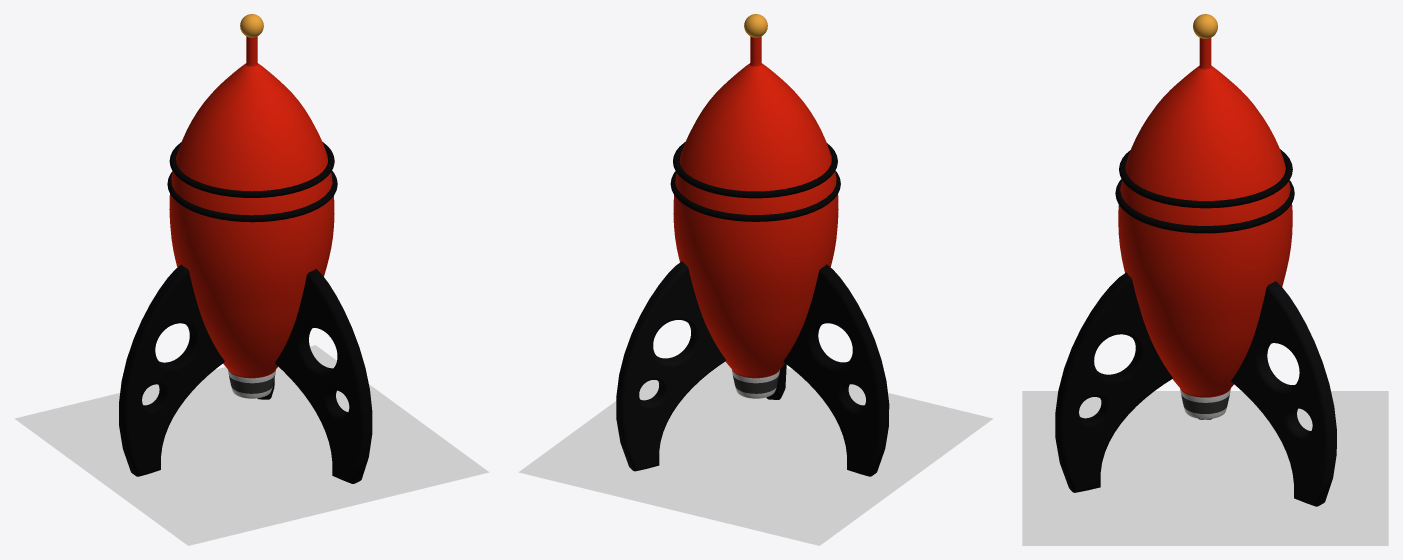
The model's file is rocket.fbx.
The picture shows the model from 3 angles, left to right: view 1: azimuth 30°, elevation 25°; view 2: azimuth 150°, elevation 25°; view 3: azimuth 270°, elevation 25°; orthographic projection. The views are drawn at different scales.
Parts seen in each view (by area): view 1: Plane, Rocket_base, BezierCurve.001, BezierCurve.002, arus_01, arus_02; view 2: Plane, Rocket_base, BezierCurve.003, BezierCurve.001, arus_01, arus_02; view 3: Plane, Rocket_base, BezierCurve.002, BezierCurve.003, arus_01, arus_02, point.
Boxes of the visible parts, x1,y1,x2,y2 form: Plane: (14,345,489,545); Rocket_base: (169,36,334,398); BezierCurve.001: (119,264,224,476); BezierCurve.002: (275,269,372,483); arus_01: (169,142,334,197); arus_02: (167,171,337,222); Plane: (518,361,993,545); Rocket_base: (673,36,838,398); BezierCurve.003: (616,261,726,471); BezierCurve.001: (783,264,889,476); arus_01: (673,142,837,198); arus_02: (670,170,840,221); Plane: (1022,391,1388,545); Rocket_base: (1118,38,1292,419); BezierCurve.002: (1055,272,1172,492); BezierCurve.003: (1231,281,1336,506); arus_01: (1119,149,1292,208); arus_02: (1115,179,1294,233); point: (1193,14,1217,38).
Bounding box in the file's own units: 682 × 934 × 682.
